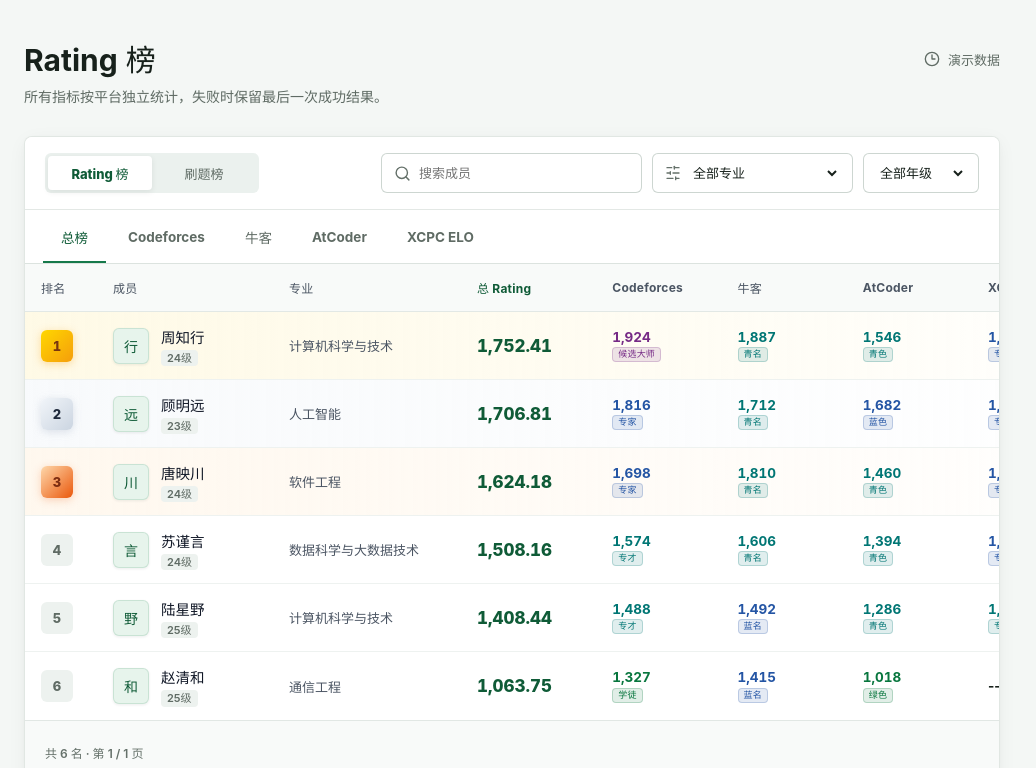
Test: RankingsPage › shows member names instead of internal IDs on the XCPC ELO ranking
Click the tab "XCPC ELO".
click(440, 238)  # box top-left (389, 213), bottom-right (492, 263)
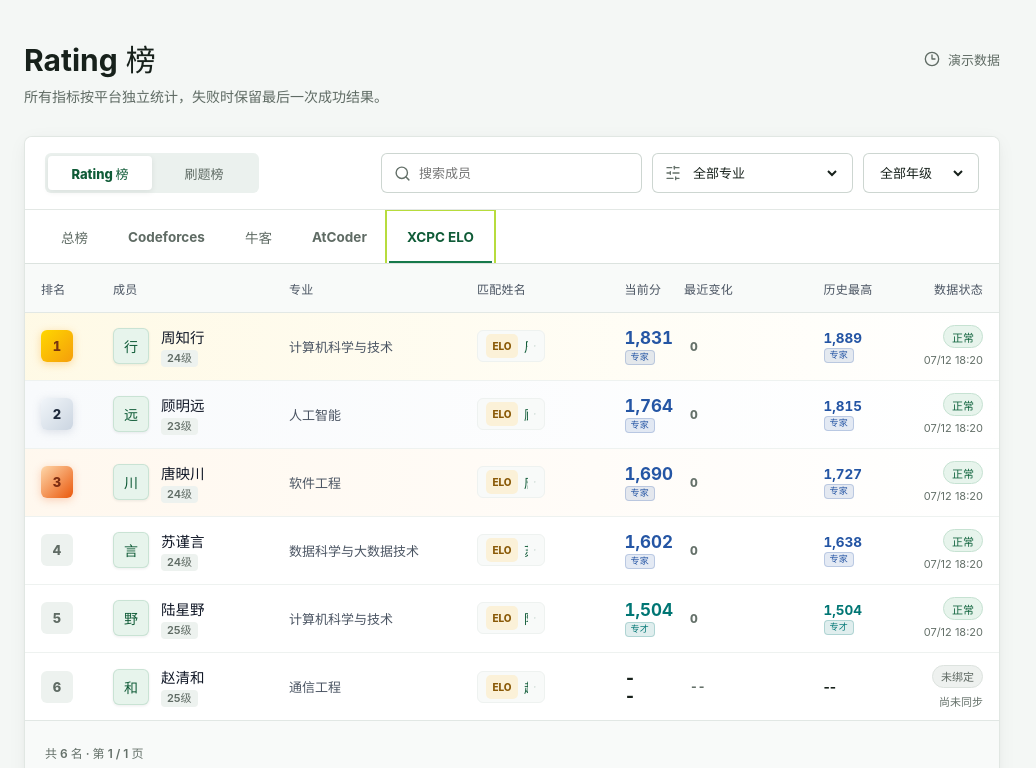
Expected: the text "周知行" is shown 2 times, top-left (161, 326), bottom-right (204, 347); top-left (524, 336), bottom-right (528, 356)
Result: the column heading "匹配姓名" is shown at top-left (461, 264), bottom-right (560, 312)
